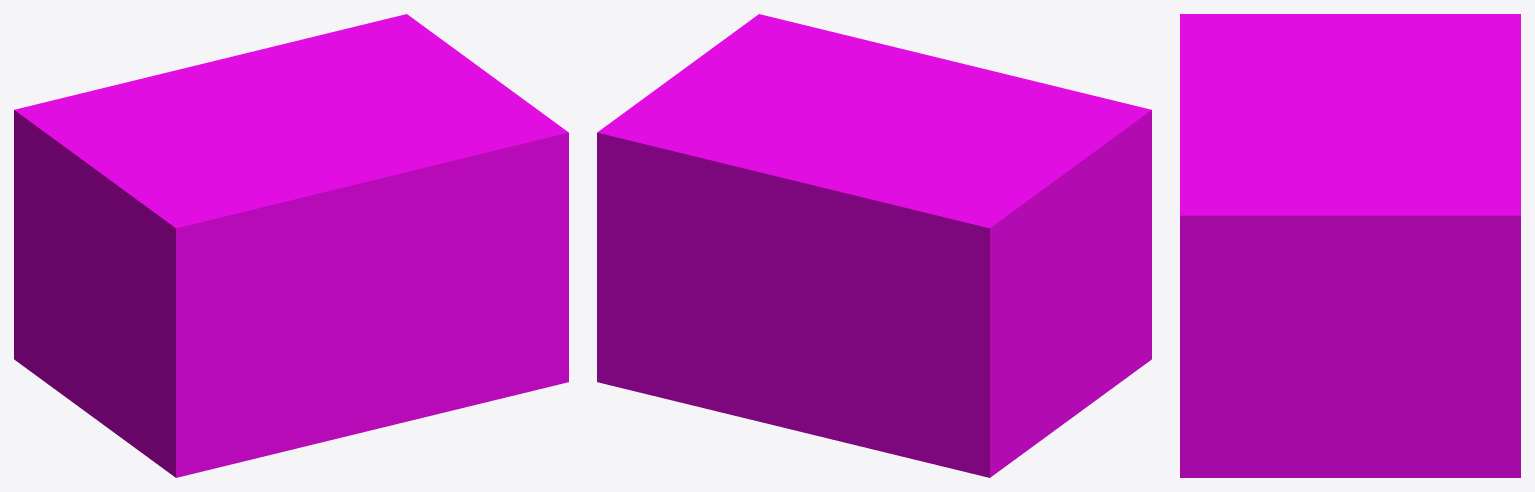
Rendered from chest.glb.
3 renders of one model, left to right at view 1: azimuth 30°, elevation 25°; view 2: azimuth 150°, elevation 25°; view 3: azimuth 270°, elevation 25°, orthographic. The views are drawn at different scales.
Parts seen in each view (by area): view 1: Col_main; view 2: Col_main; view 3: Col_main.
Boxes of the visible parts, x1=… form: Col_main: x1=14, y1=14, x2=568, y2=477; Col_main: x1=597, y1=14, x2=1151, y2=477; Col_main: x1=1180, y1=14, x2=1520, y2=477.
Bounding box in the file's own units: 1.4 × 0.85 × 1.
